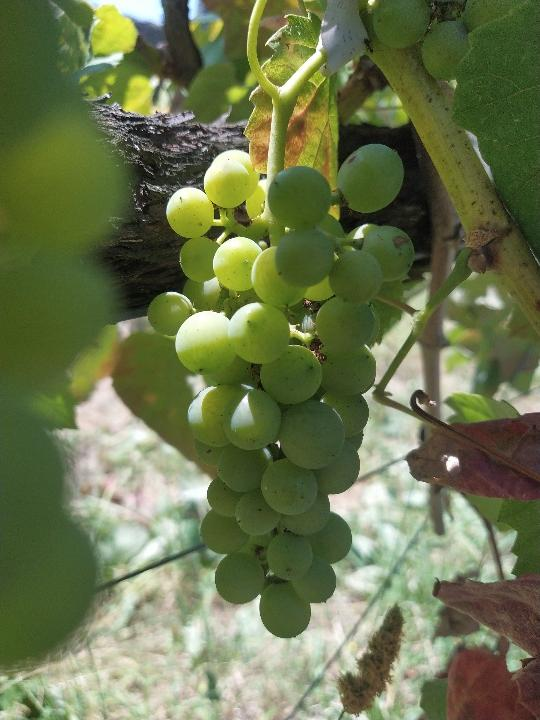grape: (145, 139, 418, 641)
